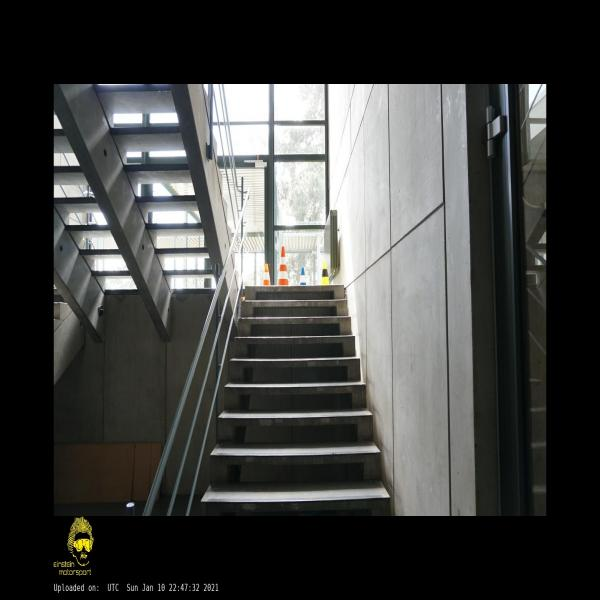blue_cone: (300, 268, 306, 285)
large_orange_cone: (278, 246, 288, 285)
orange_cone: (264, 264, 270, 285)
yellow_cone: (321, 261, 329, 284)
